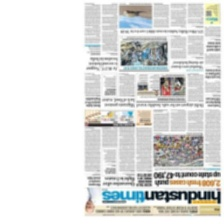news_paper: (83, 2, 223, 218)
